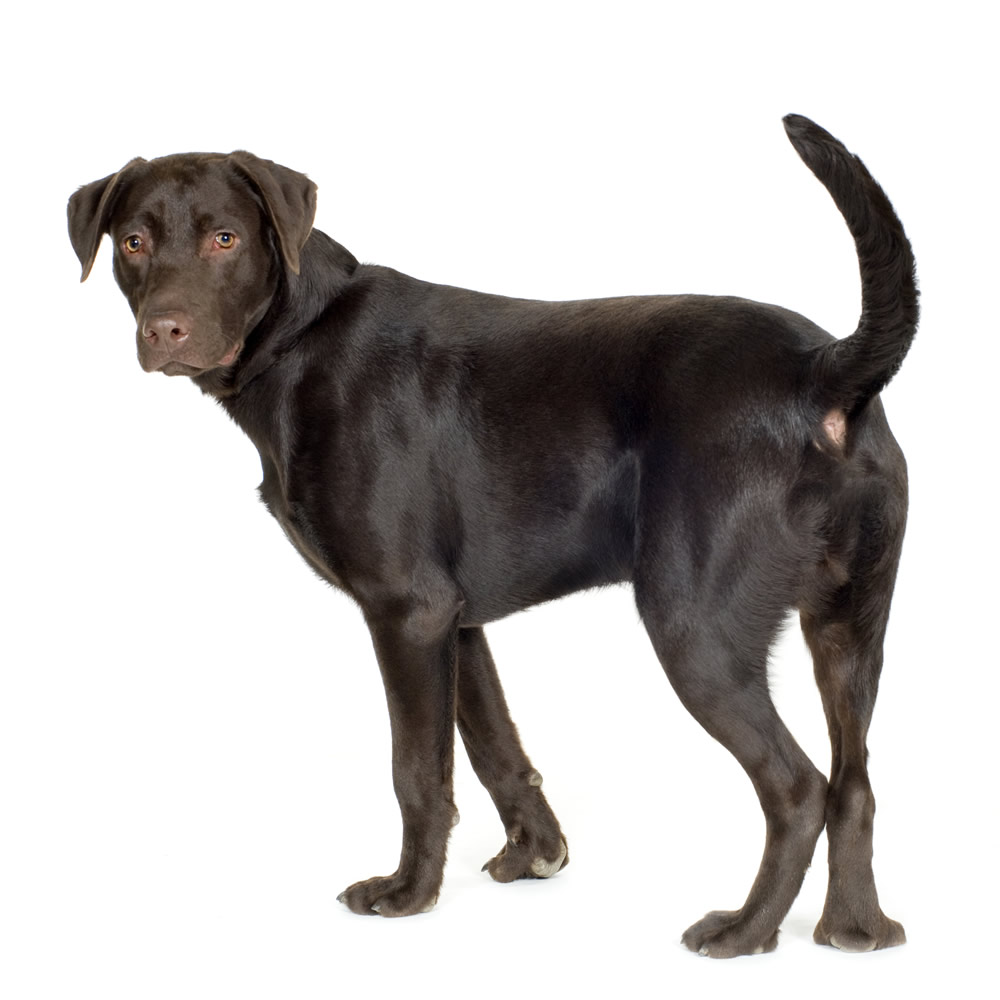tail: (773, 110, 926, 420)
